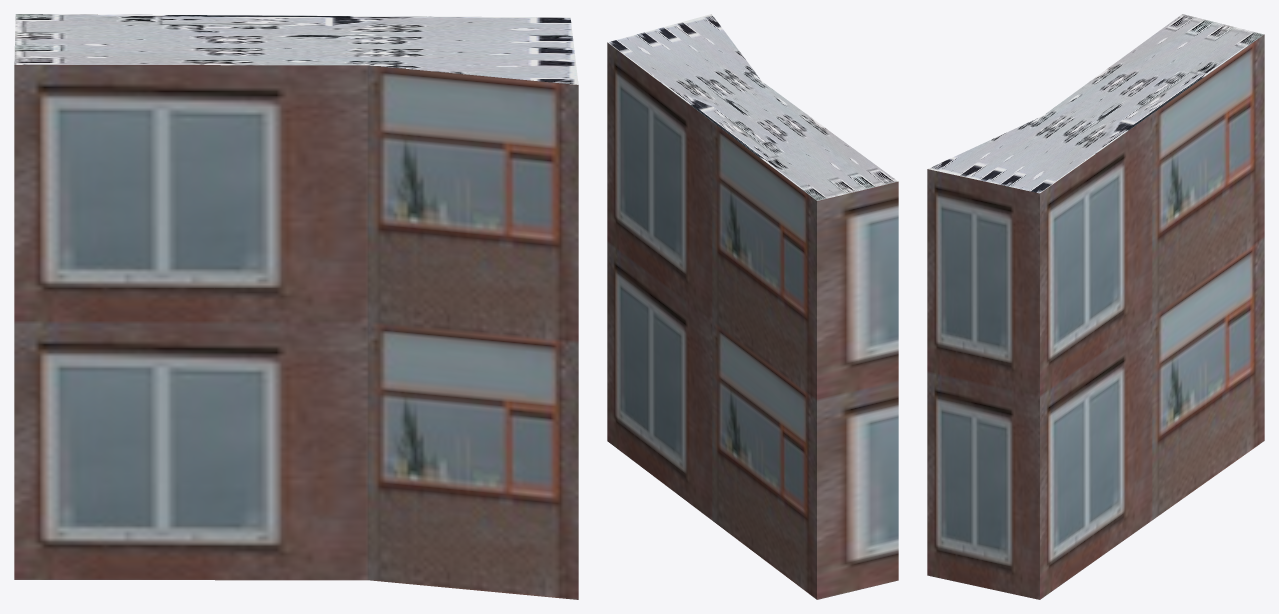
File: ResTex__2407.fbx
The picture shows the model from 3 angles, left to right: view 1: azimuth 30°, elevation 25°; view 2: azimuth 150°, elevation 25°; view 3: azimuth 270°, elevation 25°; orthographic projection. The views are drawn at different scales.
Parts seen in each view (by area): view 1: CityEngineMaterial_19_m, CityEngineMaterial_15_m; view 2: CityEngineMaterial_19_m, CityEngineMaterial_15_m; view 3: CityEngineMaterial_19_m, CityEngineMaterial_15_m.
Boxes of the visible parts, bbox=[...] form: CityEngineMaterial_19_m: bbox=[14, 65, 578, 599]; CityEngineMaterial_15_m: bbox=[14, 14, 578, 84]; CityEngineMaterial_19_m: bbox=[607, 42, 898, 599]; CityEngineMaterial_15_m: bbox=[608, 14, 897, 200]; CityEngineMaterial_19_m: bbox=[927, 34, 1264, 599]; CityEngineMaterial_15_m: bbox=[928, 14, 1263, 193].
Bounding box in the file's own units: 5.68 × 6 × 4.51.
2 materials, 2 textured.
